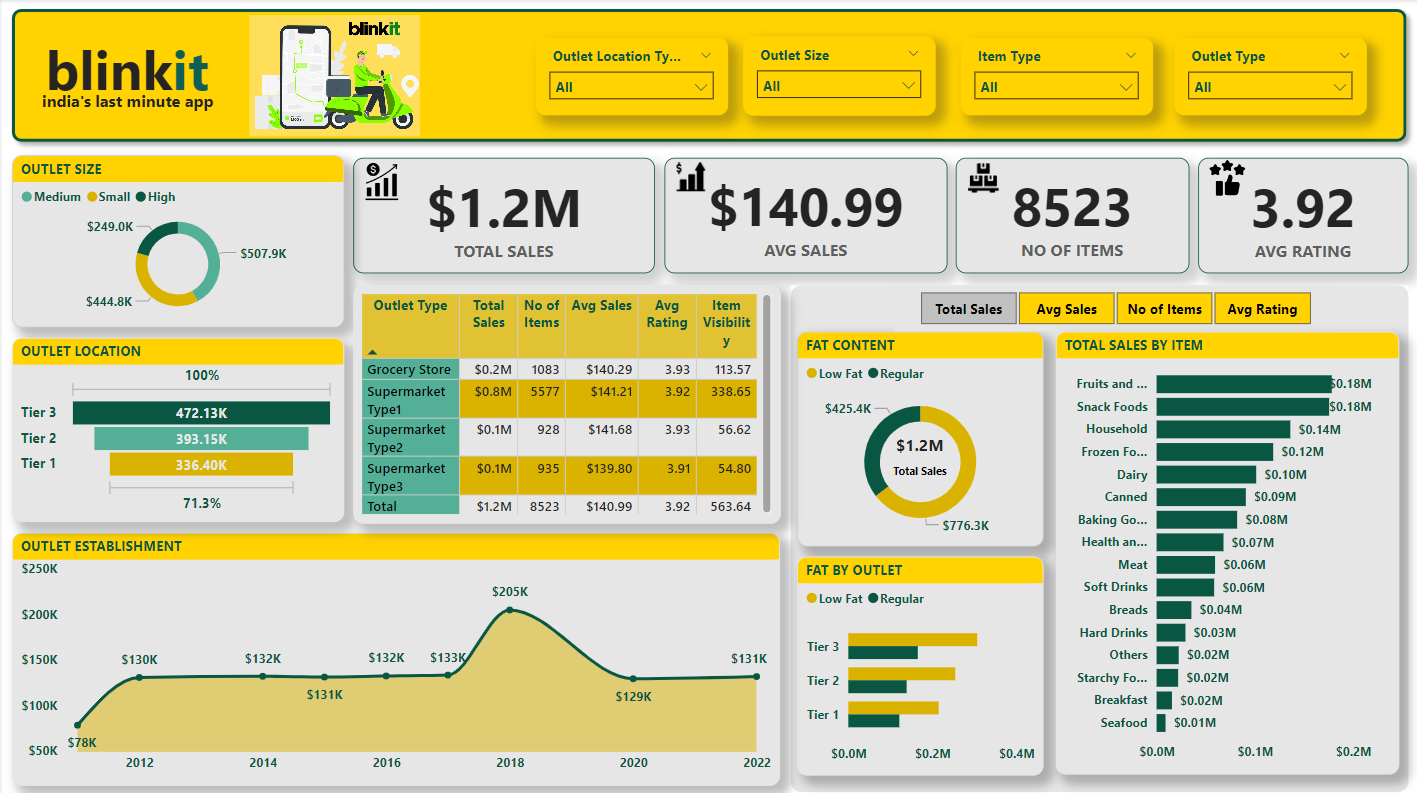

Layout of this report page (visuals, bound fields, positions):
{"tool":"powerbi","page":{"name":"Page 1","canvas":[1400,800],"ordinal":0},"visuals":[{"type":"shape","box":[0,0,1400,151.4],"z":0},{"type":"textbox","box":[38.6,27.1,184.3,88.6],"z":1000},{"type":"textbox","box":[34.3,84.3,255,43.6],"z":2000},{"type":"card","fields":{"Values":["BlinkIT Grocery Data.Total Sales"]},"box":[347.1,157.1,298.6,114.3],"z":3000},{"type":"card","fields":{"Values":["BlinkIT Grocery Data.Avg Sales"]},"box":[655,157,280,114],"z":4000},{"type":"card","fields":{"Values":["BlinkIT Grocery Data.No of Items"]},"box":[944,157,231,114],"z":5000},{"type":"card","fields":{"Values":["BlinkIT Grocery Data.Avg Rating"]},"box":[1183.3,156.7,207.8,114.4],"z":6000},{"type":"image","box":[328.6,157.1,94.3,47.1],"z":7000},{"type":"image","box":[645.8,155.3,72.1,40],"z":8000},{"type":"image","box":[1170,154,85,45],"z":9000},{"type":"image","box":[934.7,157.4,71.6,40],"z":10000},{"type":"shape","box":[780,282.9,611.4,501.4],"z":11000},{"type":"donutChart","title":"FAT CONTENT","fields":{"Y":["BlinkIT Grocery Data.Total Sales"],"Category":["BlinkIT Grocery Data.Item Fat Content"]},"box":[787.1,328.6,244.3,212.9],"z":12000},{"type":"slicer","fields":{"Values":["Matrics.Matrics"]},"box":[883.6,282.9,435.7,45.7],"z":13000},{"type":"cardVisual","fields":{"Data":["BlinkIT Grocery Data.Total Sales"]},"box":[860,413.3,97.8,68.9],"z":14000},{"type":"clusteredBarChart","title":"FAT BY OUTLET","fields":{"Y":["BlinkIT Grocery Data.Total Sales"],"Category":["BlinkIT Grocery Data.Outlet Location Type"],"Series":["BlinkIT Grocery Data.Item Fat Content"]},"box":[787.1,551.4,244.3,217.1],"z":15000},{"type":"barChart","title":"TOTAL SALES BY ITEM","fields":{"Y":["BlinkIT Grocery Data.Total Sales"],"Category":["BlinkIT Grocery Data.Item Type"]},"box":[1042.9,328.6,340,438.6],"z":16000},{"type":"lineChart","title":"OUTLET ESTABLISHMENT","fields":{"Category":["BlinkIT Grocery Data.Outlet Establishment Year"],"Y":["BlinkIT Grocery Data.Total Sales"]},"box":[10,528.6,760,250],"z":17000},{"type":"donutChart","title":"OUTLET SIZE","fields":{"Y":["BlinkIT Grocery Data.Total Sales"],"Category":["BlinkIT Grocery Data.Outlet Size"]},"box":[10,154.3,328.6,170],"z":18000},{"type":"funnel","title":"OUTLET LOCATION","fields":{"Category":["BlinkIT Grocery Data.Outlet Location Type"],"Y":["Sum(BlinkIT Grocery Data.Sales)"]},"box":[10,335.6,328.9,182.2],"z":19000},{"type":"pivotTable","fields":{"Rows":["BlinkIT Grocery Data.Outlet Type"],"Values":["BlinkIT Grocery Data.Total Sales","BlinkIT Grocery Data.No of Items","BlinkIT Grocery Data.Avg Sales","BlinkIT Grocery Data.Avg Rating","Sum(BlinkIT Grocery Data.Item Visibility)"]},"box":[347.1,282.9,422.9,235.7],"z":20000},{"type":"slicer","fields":{"Values":["BlinkIT Grocery Data.Outlet Location Type"]},"box":[528.3,38.3,190,76.7],"z":21000},{"type":"slicer","fields":{"Values":["BlinkIT Grocery Data.Outlet Size"]},"box":[733.3,36.7,190,78.3],"z":22000},{"type":"slicer","fields":{"Values":["BlinkIT Grocery Data.Item Type"]},"box":[948.3,38.3,190,76.7],"z":23000},{"type":"slicer","fields":{"Values":["BlinkIT Grocery Data.Outlet Type"]},"box":[1160,38.3,190,76.7],"z":24000},{"type":"image","box":[240,11.7,178.3,130],"z":25000}]}

Visuals, with their boxes in screenshot pixels (x1, y1, x2, y2), scaled from the page's 1400x800 canvas onto the 1417x793 screenshot:
shape: bbox=[0, 0, 1416, 150]
textbox: bbox=[39, 27, 226, 115]
textbox: bbox=[35, 84, 293, 127]
card - BlinkIT Grocery Data.Total Sales: bbox=[351, 156, 654, 269]
card - BlinkIT Grocery Data.Avg Sales: bbox=[663, 156, 946, 269]
card - BlinkIT Grocery Data.No of Items: bbox=[955, 156, 1189, 269]
card - BlinkIT Grocery Data.Avg Rating: bbox=[1198, 155, 1408, 269]
image: bbox=[333, 156, 428, 202]
image: bbox=[654, 154, 727, 194]
image: bbox=[1184, 153, 1270, 197]
image: bbox=[946, 156, 1019, 196]
shape: bbox=[789, 280, 1408, 777]
"FAT CONTENT" donutChart: bbox=[797, 326, 1044, 537]
slicer - Matrics.Matrics: bbox=[894, 280, 1335, 326]
cardVisual - BlinkIT Grocery Data.Total Sales: bbox=[870, 410, 969, 478]
"FAT BY OUTLET" clusteredBarChart: bbox=[797, 547, 1044, 762]
"TOTAL SALES BY ITEM" barChart: bbox=[1056, 326, 1400, 760]
"OUTLET ESTABLISHMENT" lineChart: bbox=[10, 524, 779, 772]
"OUTLET SIZE" donutChart: bbox=[10, 153, 343, 321]
"OUTLET LOCATION" funnel: bbox=[10, 333, 343, 513]
pivotTable - BlinkIT Grocery Data.Outlet Type x BlinkIT Grocery Data.Total Sales: bbox=[351, 280, 779, 514]
slicer - BlinkIT Grocery Data.Outlet Location Type: bbox=[535, 38, 727, 114]
slicer - BlinkIT Grocery Data.Outlet Size: bbox=[742, 36, 935, 114]
slicer - BlinkIT Grocery Data.Item Type: bbox=[960, 38, 1152, 114]
slicer - BlinkIT Grocery Data.Outlet Type: bbox=[1174, 38, 1366, 114]
image: bbox=[243, 12, 423, 140]
